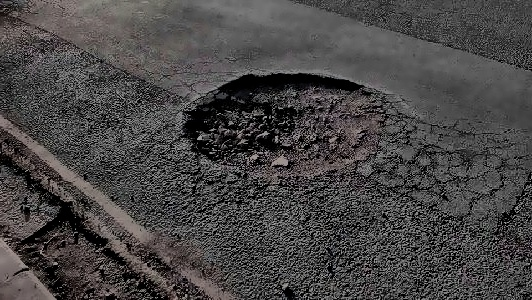pothole: (175, 70, 413, 174), (13, 204, 178, 299)
